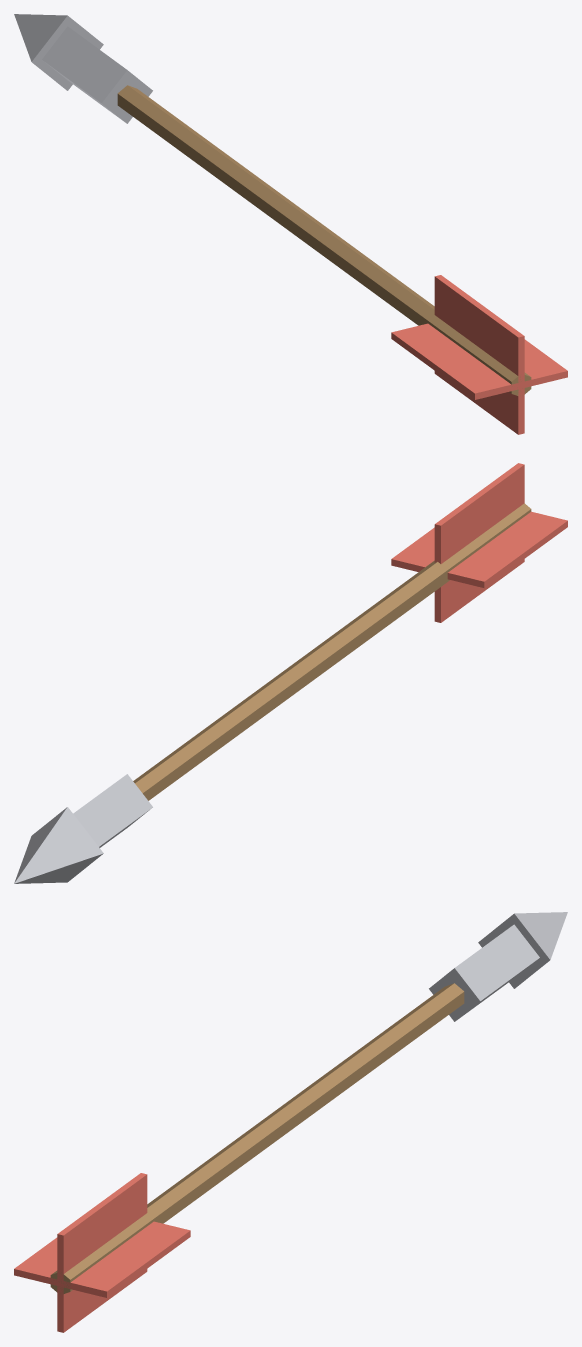
File: arrow.gltf
3 renders of one model, top to bottom at view 1: azimuth 30°, elevation 25°; view 2: azimuth 150°, elevation 25°; view 3: azimuth 330°, elevation 25°, orthographic.
Parts seen in each view (by area): view 1: Arrow_Mesh; view 2: Arrow_Mesh; view 3: Arrow_Mesh.
Part boxes in pixels (x1,y1,x2,y2): Arrow_Mesh: (14, 14, 567, 434); Arrow_Mesh: (14, 463, 567, 883); Arrow_Mesh: (14, 912, 567, 1332).
Size of the model in its own units: 0.09 by 0.09 by 0.85.
